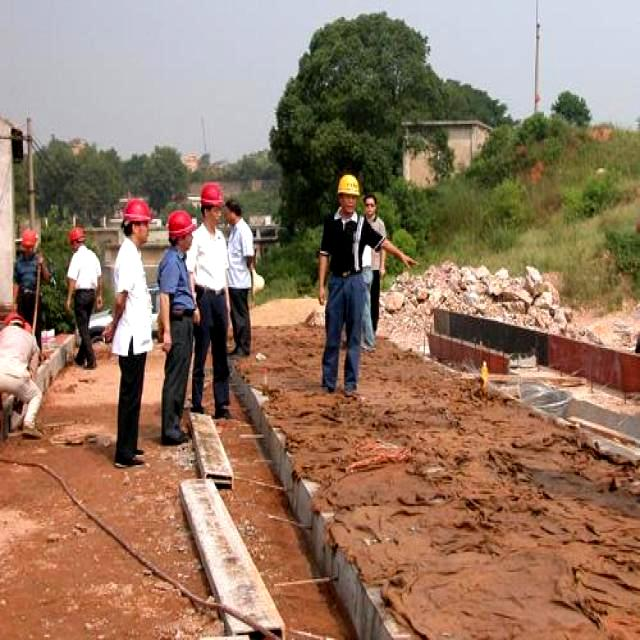hard_hat: (168, 211, 195, 238), (123, 200, 151, 222), (201, 183, 223, 207), (338, 173, 358, 195), (4, 314, 31, 328), (68, 227, 84, 246), (23, 231, 36, 248)
no_head_wear: (228, 200, 242, 222), (365, 195, 376, 216)
person: (104, 200, 151, 465), (319, 175, 364, 394), (159, 212, 198, 443), (192, 183, 228, 418), (65, 227, 101, 368), (0, 312, 41, 435), (229, 200, 253, 355), (14, 231, 50, 321), (367, 251, 384, 338), (365, 195, 385, 238)
